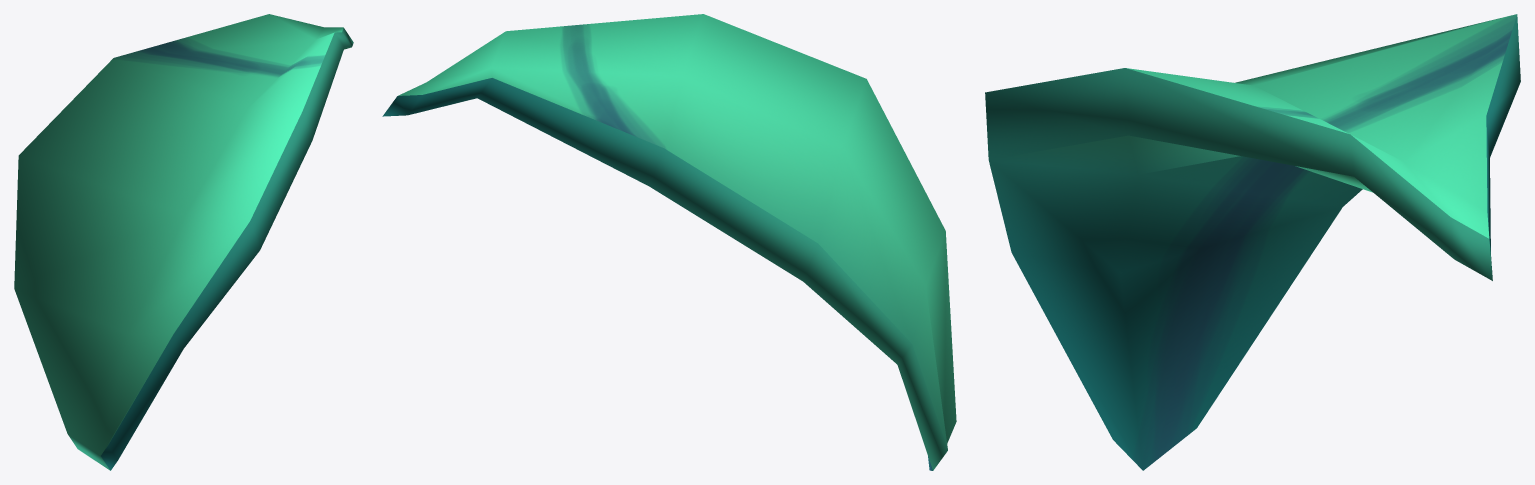
The model's file is leaf.fbx.
3 renders of one model, left to right at view 1: azimuth 30°, elevation 25°; view 2: azimuth 150°, elevation 25°; view 3: azimuth 270°, elevation 25°, orthographic. The views are drawn at different scales.
Parts seen in each view (by area): view 1: Plane.003; view 2: Plane.003; view 3: Plane.003.
Part boxes in pixels (box(x1,y1,x2,y2)): Plane.003: box(14, 14, 353, 470); Plane.003: box(382, 14, 956, 470); Plane.003: box(985, 14, 1520, 470).
Bounding box in the file's own units: 130 × 106 × 88.38.
